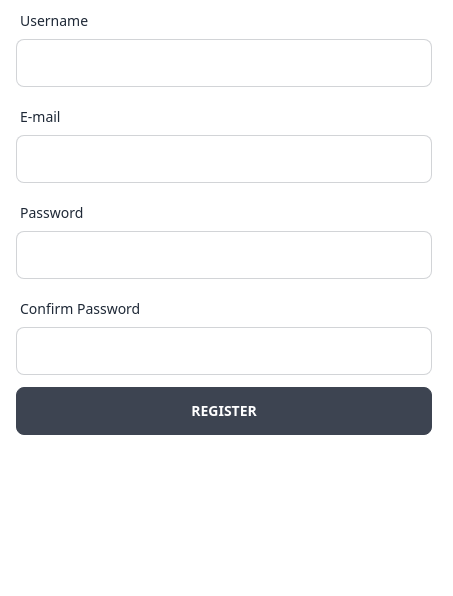
Test: Register Component › should NOT be able to register user when fields are empty
Click the button "Register" at [224, 411], box [16,387,432,435]
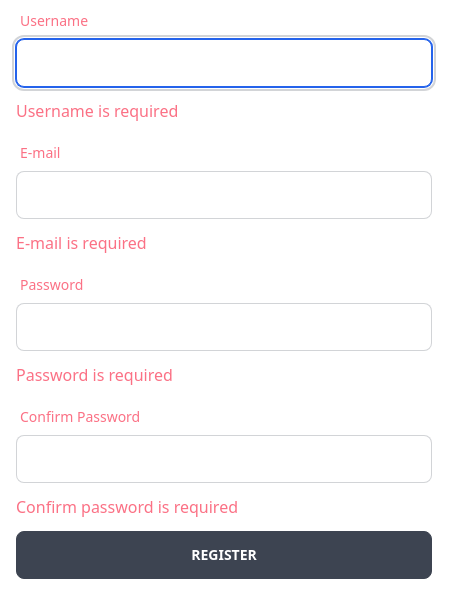
expect the text "Username is required" is shown: met, box [16,100,178,122]
expect the text "E-mail is required" is shown: met, box [16,232,147,254]
expect the text "Password is required" is shown: met, box [16,364,173,386]
